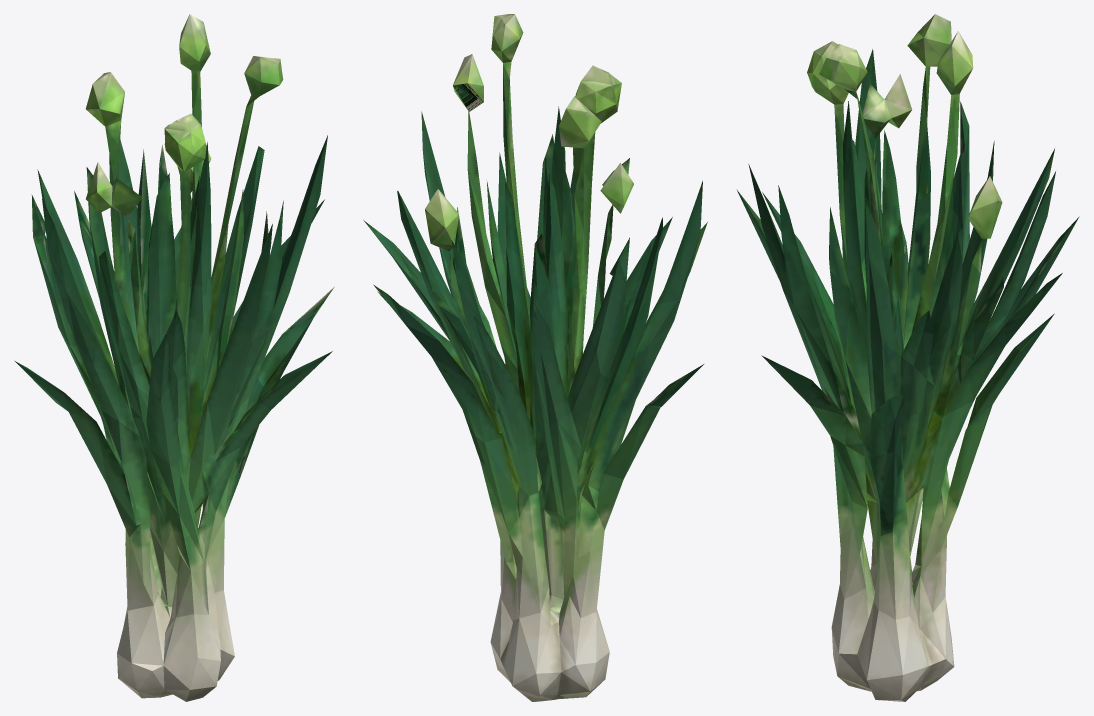
The model's file is P_Jiucai_03.obj.
The picture shows the model from 3 angles, left to right: view 1: azimuth 30°, elevation 25°; view 2: azimuth 150°, elevation 25°; view 3: azimuth 270°, elevation 25°; orthographic projection. The views are drawn at different scales.
Size of the model in its own units: 0.6181 by 1.17 by 0.5334.
1 material, 1 textured.
